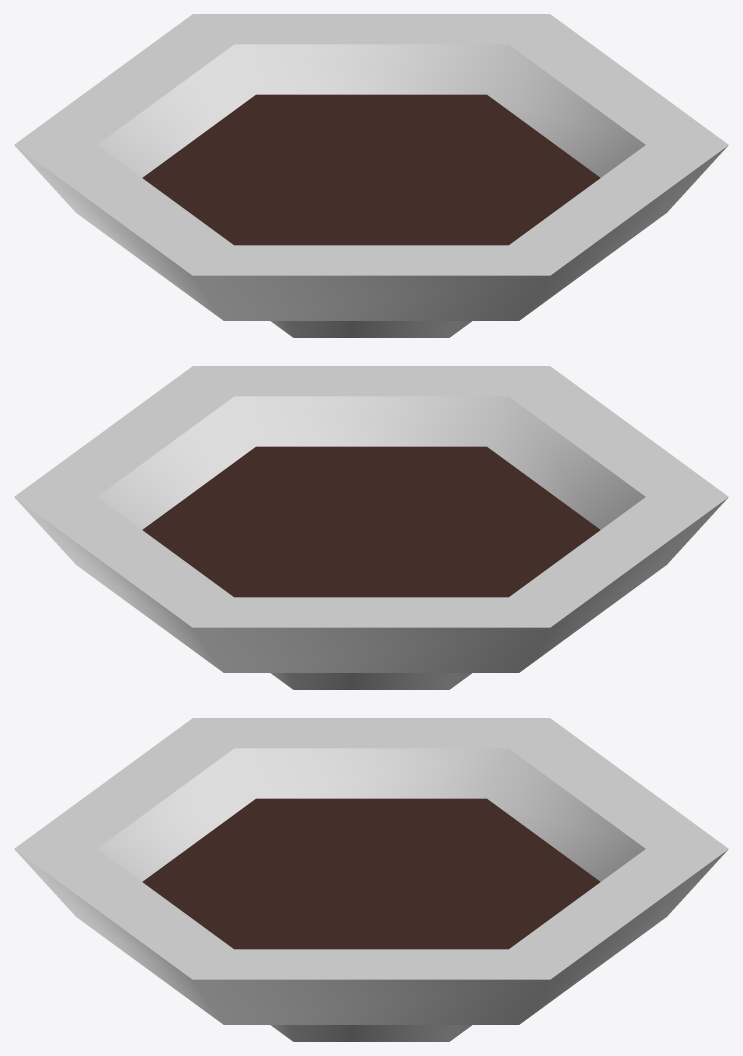
File: soy.GLB
3 views of the same model, one above another, from view 1: azimuth 30°, elevation 25°; view 2: azimuth 150°, elevation 25°; view 3: azimuth 270°, elevation 25° (orthographic).
Visible parts, largest first — view 1: soy; view 2: soy; view 3: soy.
Boxes of the visible parts, box(x1,y1,x2,y2) form: soy: box(14, 14, 728, 337); soy: box(14, 366, 728, 689); soy: box(14, 718, 728, 1041).
Bounding box in the file's own units: 0.1653 × 0.04 × 0.1909.
